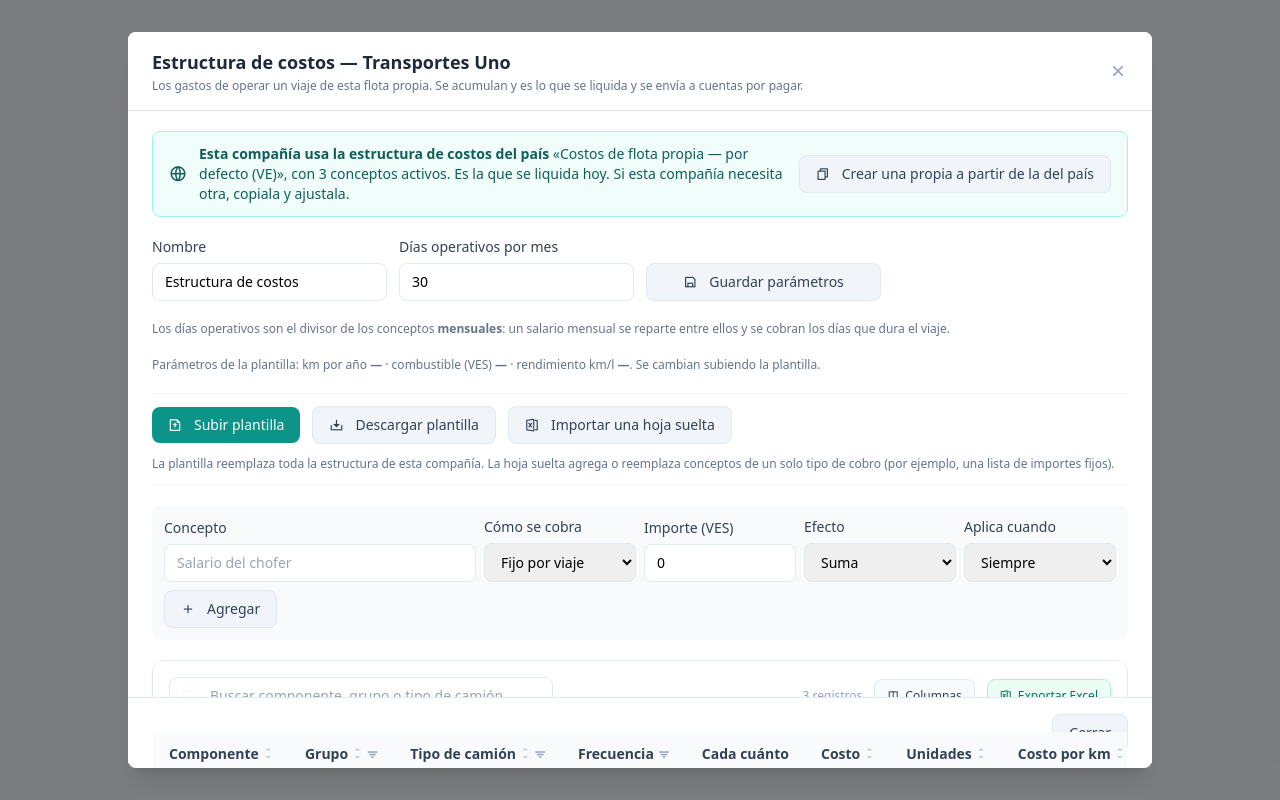
Test case: CostStructureModal: estructura heredada del país › copiar la del país crea una propia con los mismos conceptos y se puede editar
Click the button "Crear una propia a partir de la del país".
click(955, 174)  # box [799,155,1111,193]
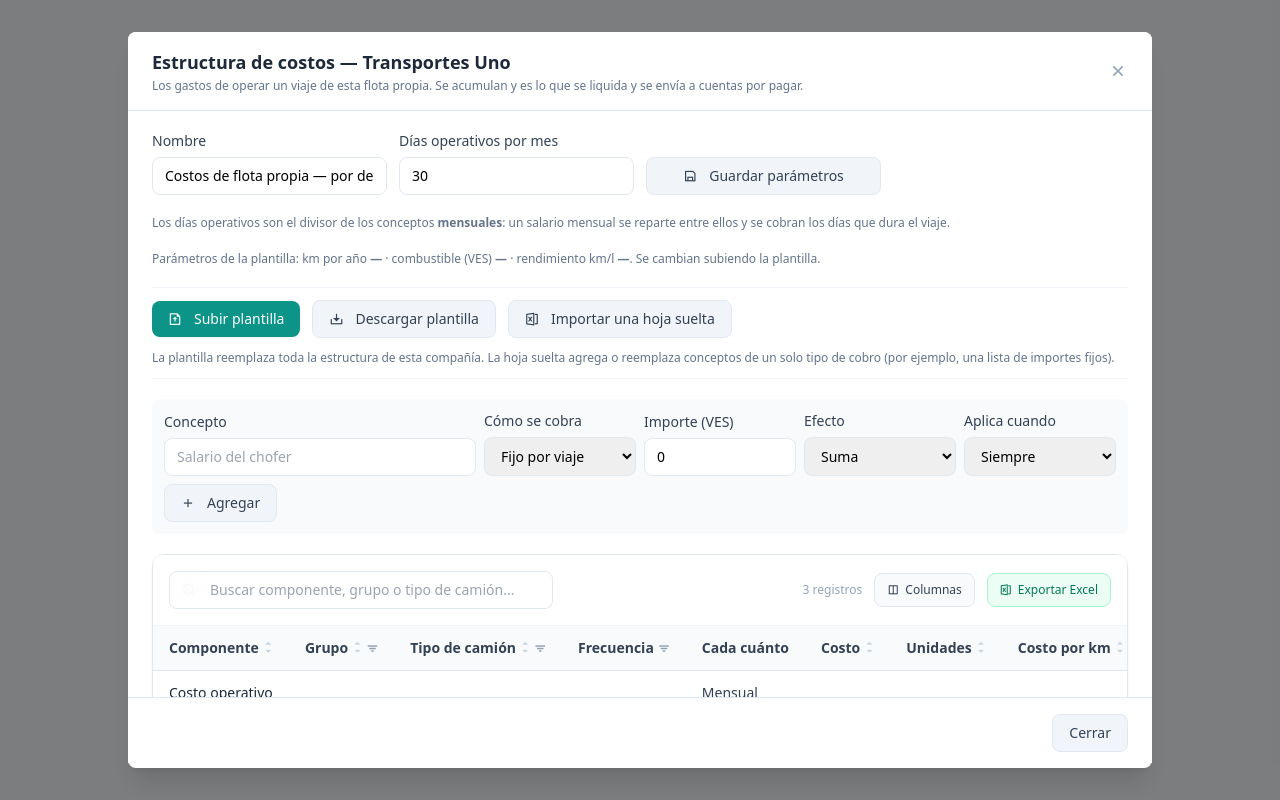
Expected: the text "usa la estructura de costos del país" is gone
